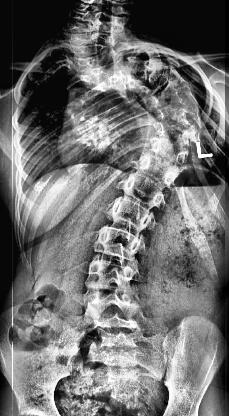Vertebrae: (118, 172, 178, 210), (89, 224, 148, 262), (134, 82, 204, 112), (138, 134, 196, 170), (102, 195, 160, 231), (134, 66, 192, 101), (82, 287, 144, 319), (83, 260, 140, 294), (128, 156, 188, 186), (114, 58, 168, 90), (143, 118, 203, 146), (143, 100, 205, 126), (99, 58, 148, 90), (68, 43, 130, 65), (74, 60, 136, 82), (87, 315, 143, 339), (68, 32, 130, 50)
